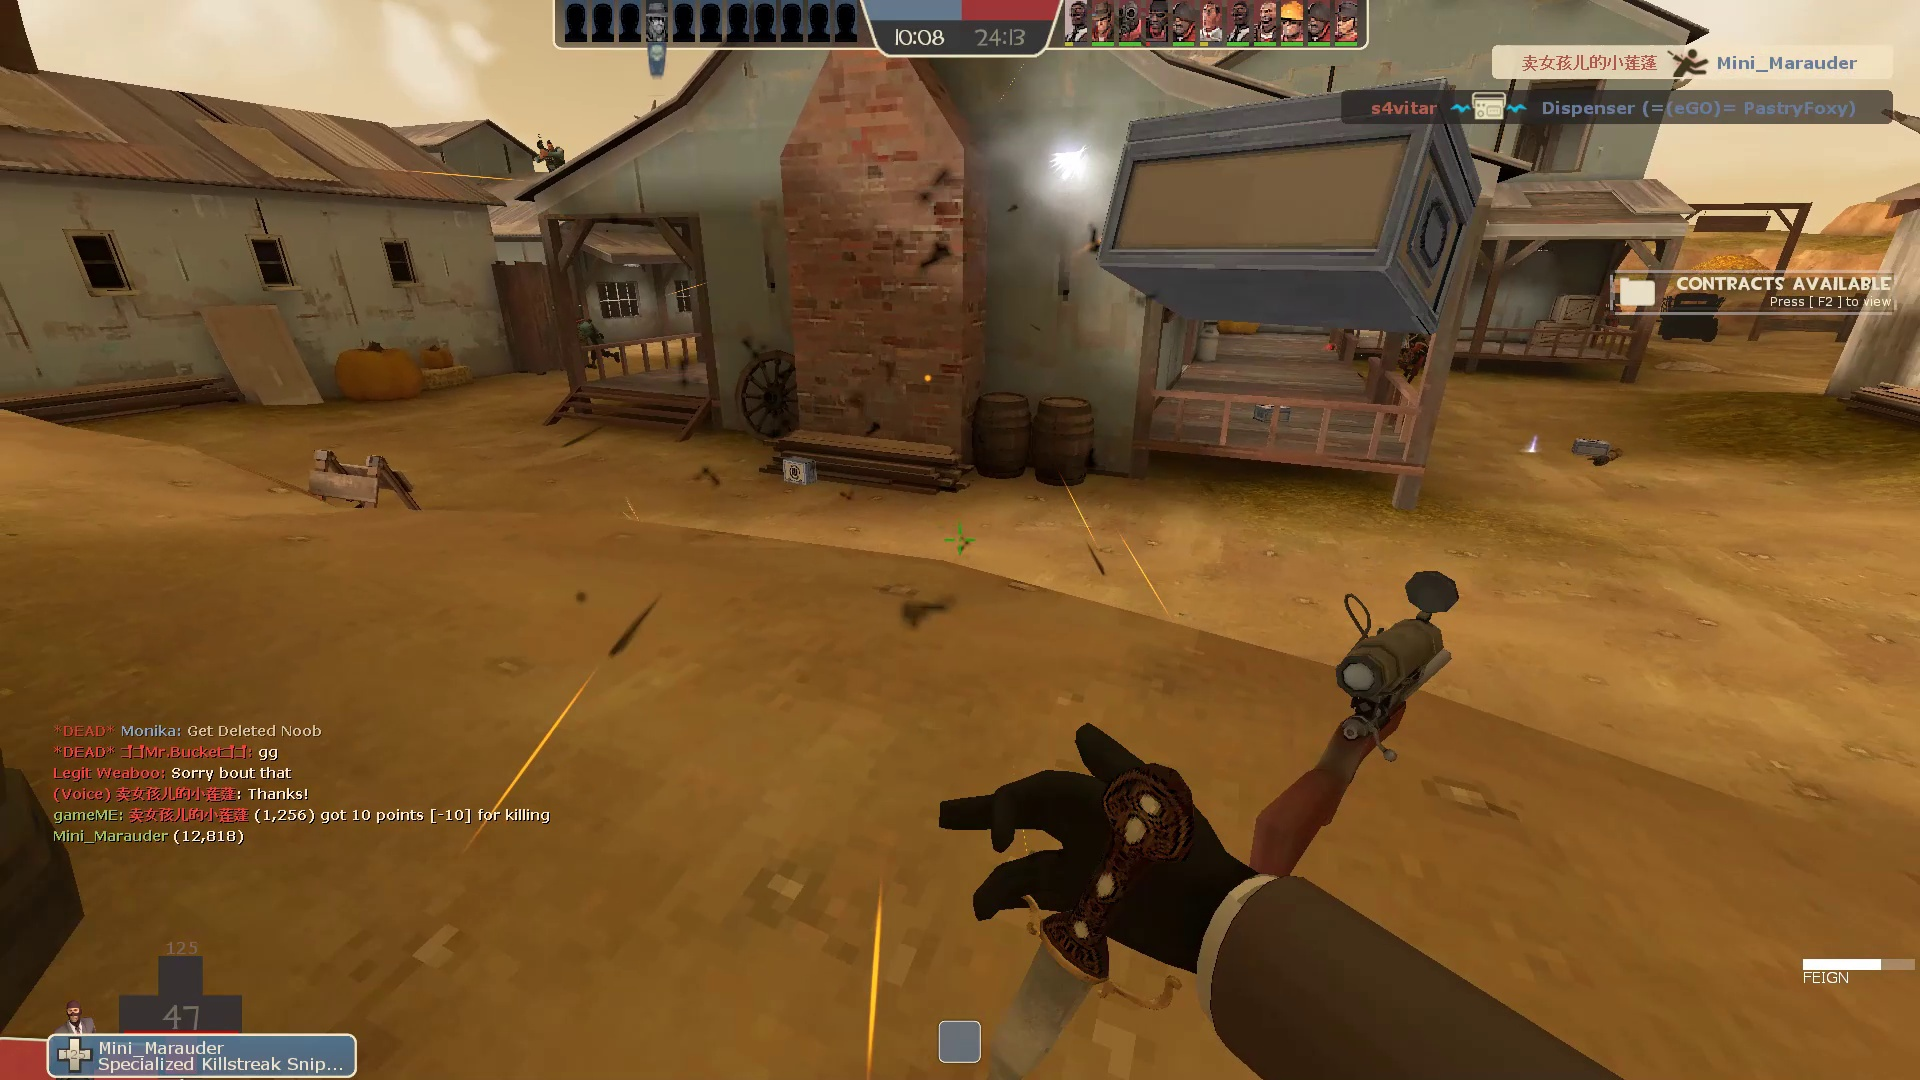blu_soldier: (566, 309, 630, 375)
